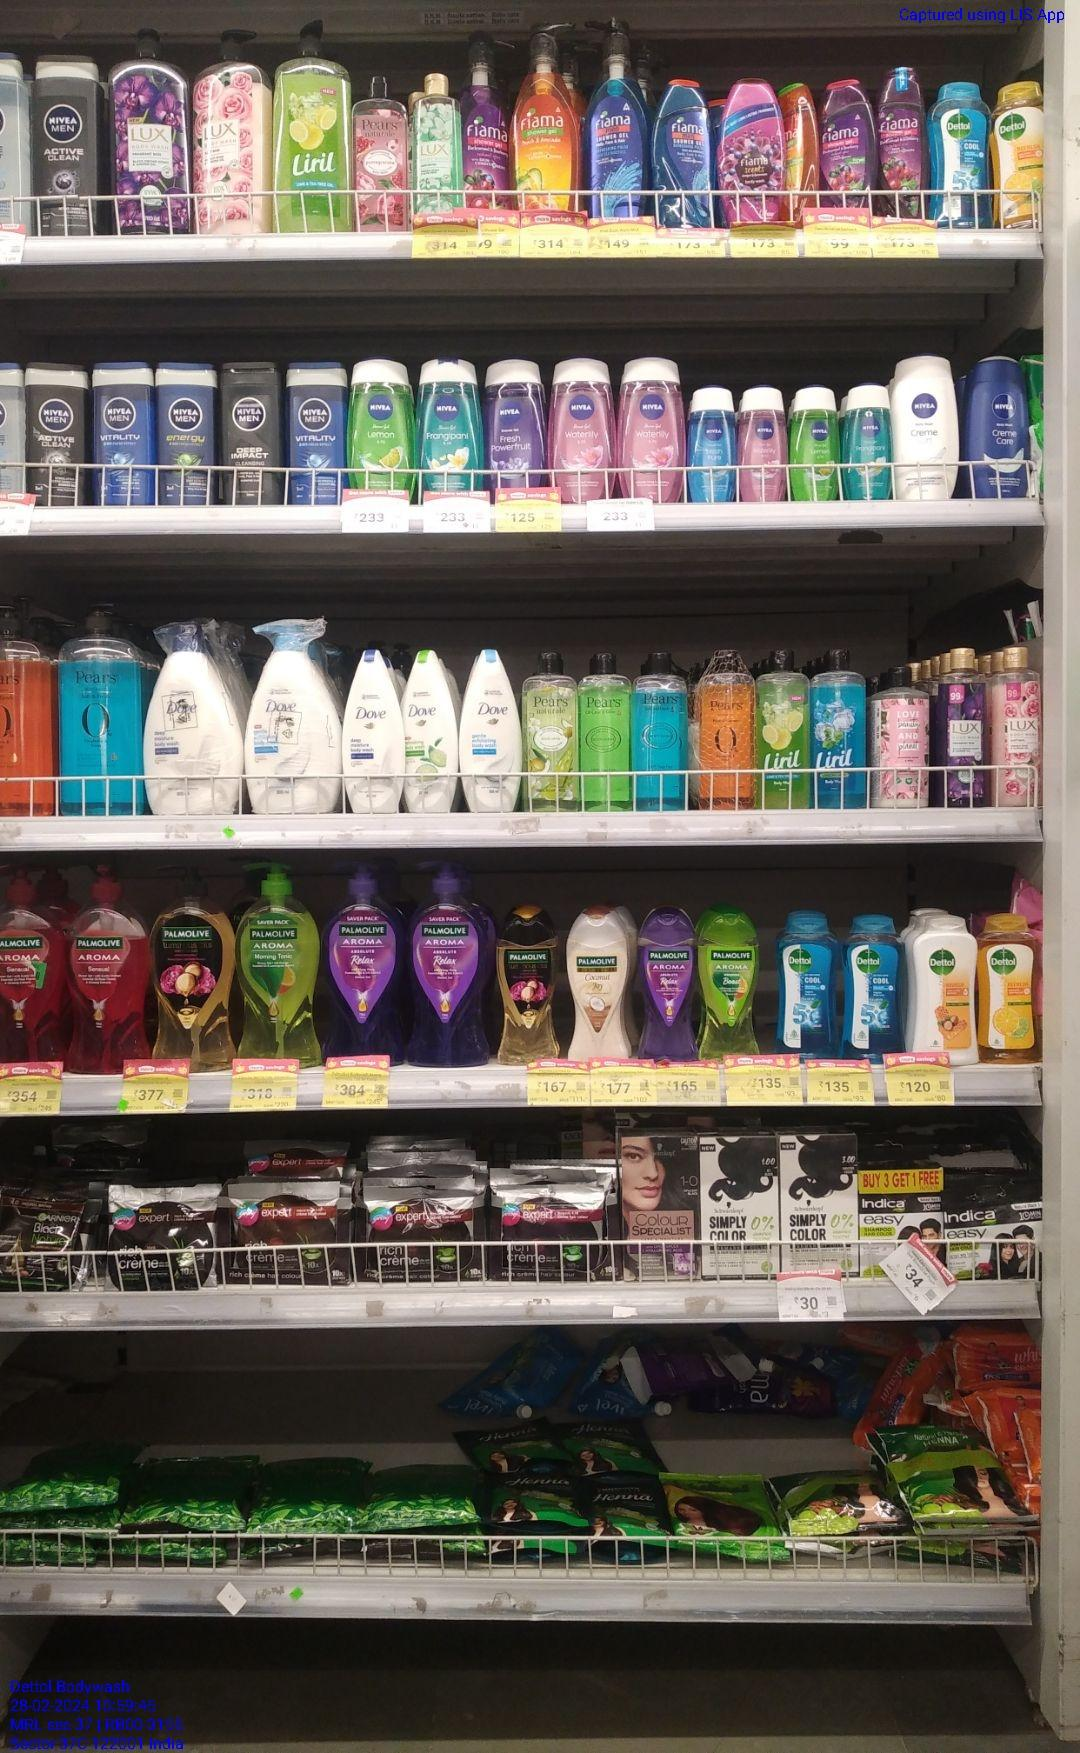Dettol_Bodywash_Cool: (929, 76, 990, 229), (846, 914, 906, 1066), (781, 913, 841, 1063)
Dettol_Bodywash_Refresh: (980, 918, 1042, 1069), (994, 78, 1044, 230)
Dettol_Nourish_Body_Wash_250ML: (915, 917, 979, 1071)
Dove_Deep_Moisture_Body_Wash_250ML: (343, 645, 399, 815)
Dove_Gentle_Exfoliating_Body_Wash_250ML: (462, 647, 519, 815)
Dove_Refreshing_Body_Wash_250ML: (405, 646, 457, 814)
Liril_Cooling_Mint_Body_Wash_250ML: (811, 646, 867, 808)
Liril_Lime_and_Tea_Tree_Oil_Body_Wash_250ML: (756, 647, 810, 811)
Lux_Black_Orchid_Scent_and_Juniper_Oil_Body_Wash_245ML: (934, 647, 990, 808)
Lux_Body_Wash_Skin_Detox_Freesia_Scent_and_Alove_Vera_245ML: (414, 68, 466, 217)
Nivea_Creme_Care_Body_Wash_250ML: (972, 352, 1029, 503)
Nivea_Creme_Soft_Body_Wash_250ML: (892, 352, 960, 500)
Nivea_Shower_Gel_Frangipani_and_Oil_250ML: (417, 352, 481, 501)
Nivea_Shower_Gel_Fresh_Powerfruit_250ML: (486, 348, 546, 501)
Nivea_Shower_Gel_Lemon_and_Oil_250ML: (349, 349, 414, 503)
Nivea_Shower_Gel_Waterlily_and_Oil_250ML: (552, 356, 613, 502), (622, 357, 680, 503)
Palmolive_Aroma_Morning_Tonic_Shower_Gel_250ML: (700, 910, 758, 1067)
Palmolive_Aroma_Relax_250ML: (642, 914, 700, 1062)
Palmolive_Coconut_Joy_Exfoliating_Body_Wash_250ML: (566, 910, 632, 1066)
Palmolive_Luminous_Oils_Invigorating_Macadamia_Oil_With_Peony_250ML: (496, 905, 562, 1072)
Pears_Naturale_Aloe_Vera_Body_Wash_250ML: (521, 642, 578, 810)
Pears_Pure_Glycerin_and_Lemon_Flower_Extracts_Body_Wash_250ML: (578, 647, 631, 815)
Pears_Pure_Glycerin_and_Mint_Extracts_Body_Wash_250ML: (636, 649, 692, 813)
